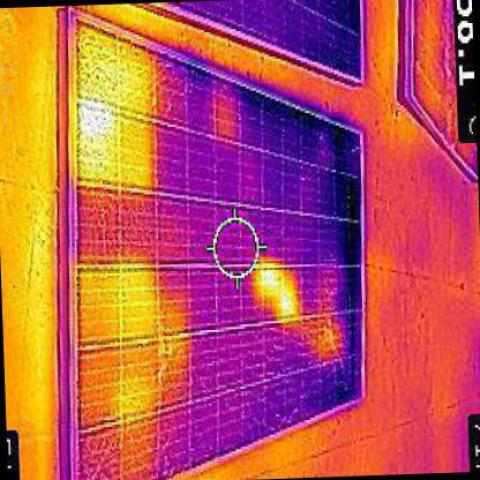fault: (70, 85, 128, 149), (260, 267, 298, 317)
